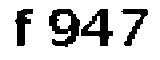4: (80, 5, 116, 50)
7: (117, 1, 152, 50)
9: (44, 2, 82, 50)
f: (6, 5, 39, 50)
